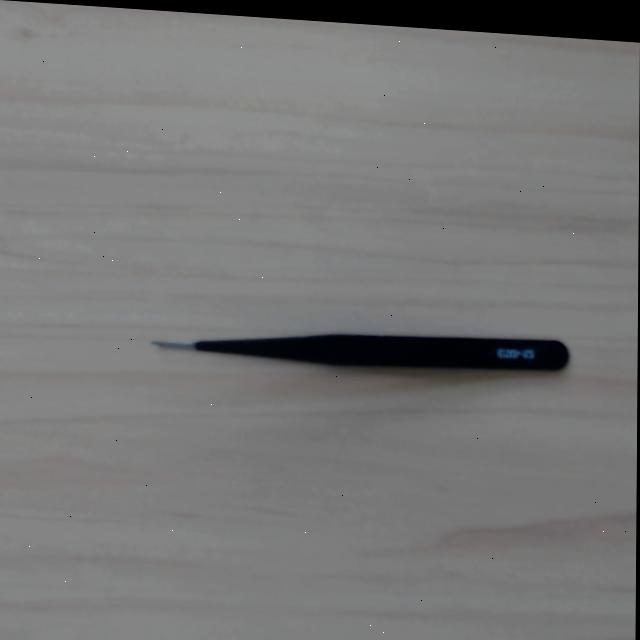Tweezers: (153, 331, 570, 375)
